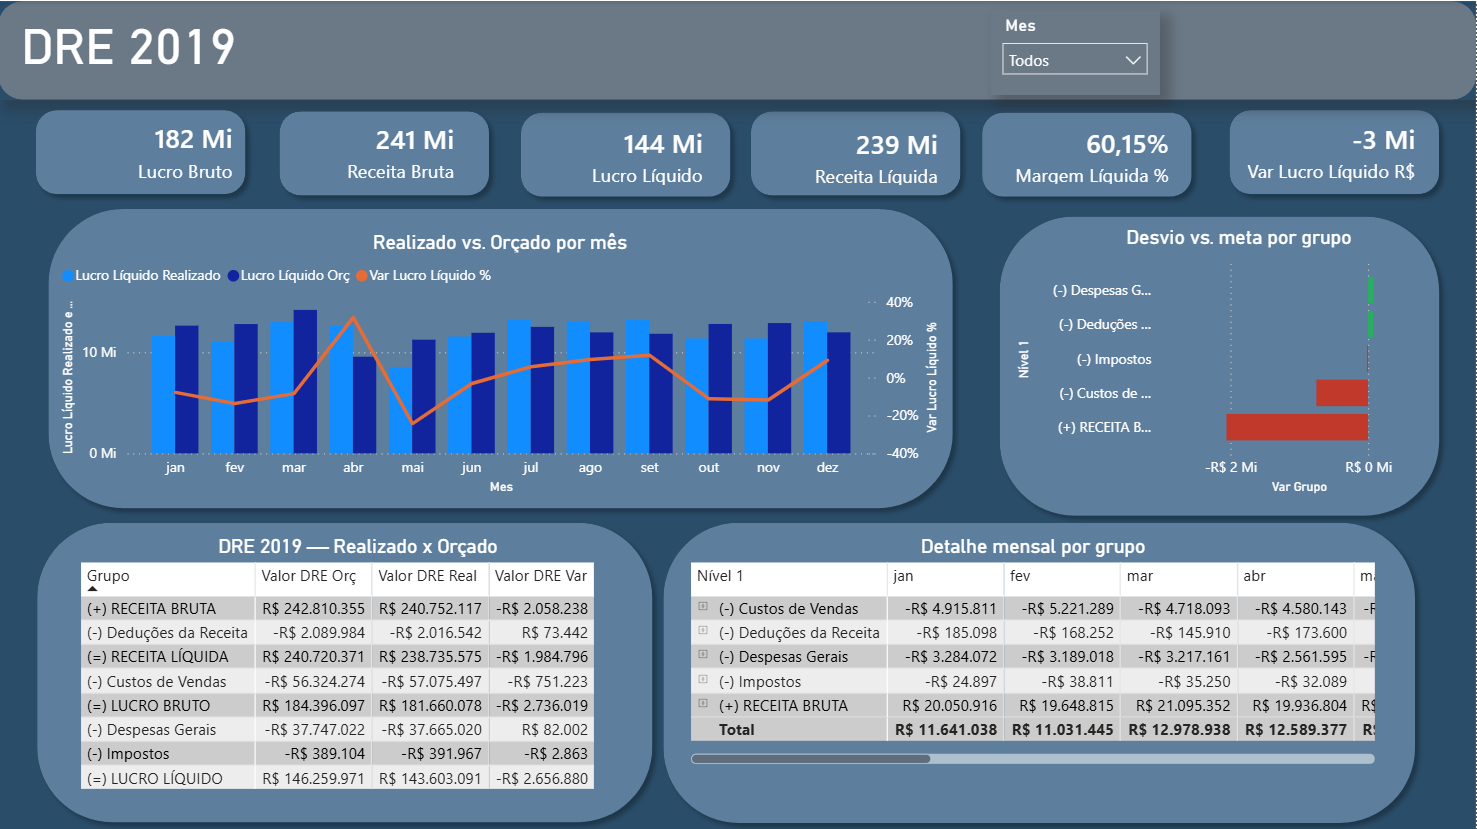

What the dashboard file says about the page in this screenshot:
{"tool":"powerbi","page":{"name":"Página 1","canvas":[1280,720],"ordinal":0},"visuals":[{"type":"shape","box":[0,0,1280,719.8],"z":0},{"type":"shape","box":[443.3,88.1,199.3,90.7],"z":1000},{"type":"cardVisual","fields":{"Data":["1-medidas.Lucro Líquido"]},"box":[424.1,95.8,215.9,75.4],"z":2000},{"type":"shape","box":[642.6,86.9,199.3,90.7],"z":3000},{"type":"shape","box":[1057.7,85.6,199.3,90.7],"z":4000},{"type":"cardVisual","fields":{"Data":["1-medidas.Receita Líquida"]},"box":[627.2,97.1,215.9,74.1],"z":5000},{"type":"cardVisual","fields":{"Data":["1-medidas.Var Lucro Líquido R$"]},"box":[1041.1,89.4,215.9,81.8],"z":6000},{"type":"shape","box":[0,0,1280,85.4],"z":7000},{"type":"textbox","box":[15.1,10,375.6,66.6],"z":8000},{"type":"shape","box":[843.1,88.1,199.3,90.7],"z":9000},{"type":"slicer","fields":{"Values":["dCalendario.Mes"]},"box":[858.9,7.5,146.2,73.6],"z":10000},{"type":"cardVisual","fields":{"Data":["1-medidas.Margem Líquida %"]},"box":[825.2,95.8,217.2,74.1],"z":11000},{"type":"shape","box":[34.5,171.2,801,277.2],"z":12000},{"type":"shape","box":[858.4,177.6,398.6,277.2],"z":13000},{"type":"lineClusteredColumnComboChart","title":"Realizado vs. Orçado por mês","fields":{"Category":["dCalendario.Mes"],"Y":["1-medidas.Lucro Líquido","1-medidas.Lucro Líquido Orç"],"Y2":["1-medidas.Var Lucro Líquido %"]},"box":[44.3,194.2,780.2,237.3],"z":14000},{"type":"barChart","title":"Desvio vs. meta por grupo","fields":{"Category":["dPlanoContas.Nível 1"],"Y":["1-medidas.Var Grupo"]},"box":[872.5,189.4,399.1,242.1],"z":15000},{"type":"shape","box":[24.5,442.8,550.6,277.4],"z":16000},{"type":"pivotTable","title":"DRE 2019 — Realizado x Orçado","fields":{"Rows":["dFormatoDRE.Grupo"],"Values":["1-medidas.Valor DRE Orç","1-medidas.Valor DRE Real","1-medidas.Valor DRE Var"]},"box":[67.1,462.6,489,237.3],"z":17000},{"type":"shape","box":[24.3,85.6,199.3,90.7],"z":18000},{"type":"shape","box":[235,86.9,199.3,90.7],"z":19000},{"type":"shape","title":"Detalhe mensal por grupo","box":[566.9,442.2,668.8,278.1],"z":19500},{"type":"cardVisual","fields":{"Data":["1-medidas.Lucro Bruto"]},"box":[15.3,89.4,217.2,80.5],"z":20000},{"type":"cardVisual","fields":{"Data":["1-medidas.Receita Bruta"]},"box":[235,93.3,189.1,74.1],"z":21000},{"type":"pivotTable","title":"Detalhe mensal por grupo","fields":{"Rows":["dPlanoContas.Nível 1","dPlanoContas.Nível 2"],"Values":["1-medidas.Valor DRE Real"],"Columns":["dCalendario.Mes"]},"box":[595.7,462.6,601.6,203.7],"z":23000}]}

Visuals, with their boxes in screenshot pixels (x1, y1, x2, y2), scaled from the page's 1280x720 canvas onto the 1477x829 screenshot:
shape: detection(0, 0, 1476, 828)
shape: detection(512, 101, 742, 206)
cardVisual - 1-medidas.Lucro Líquido: detection(489, 110, 738, 197)
shape: detection(742, 100, 971, 204)
shape: detection(1220, 99, 1450, 203)
cardVisual - 1-medidas.Receita Líquida: detection(724, 112, 973, 197)
cardVisual - 1-medidas.Var Lucro Líquido R$: detection(1201, 103, 1450, 197)
shape: detection(0, 0, 1476, 98)
textbox: detection(17, 12, 451, 88)
shape: detection(973, 101, 1203, 206)
slicer - dCalendario.Mes: detection(991, 9, 1160, 93)
cardVisual - 1-medidas.Margem Líquida %: detection(952, 110, 1203, 196)
shape: detection(40, 197, 964, 516)
shape: detection(991, 204, 1450, 524)
"Realizado vs. Orçado por mês" lineClusteredColumnComboChart: detection(51, 224, 951, 497)
"Desvio vs. meta por grupo" barChart: detection(1007, 218, 1467, 497)
shape: detection(28, 510, 664, 828)
"DRE 2019 — Realizado x Orçado" pivotTable: detection(77, 533, 642, 806)
shape: detection(28, 99, 258, 203)
shape: detection(271, 100, 501, 204)
"Detalhe mensal por grupo" shape: detection(654, 509, 1426, 828)
cardVisual - 1-medidas.Lucro Bruto: detection(18, 103, 268, 196)
cardVisual - 1-medidas.Receita Bruta: detection(271, 107, 489, 193)
"Detalhe mensal por grupo" pivotTable: detection(687, 533, 1382, 767)
